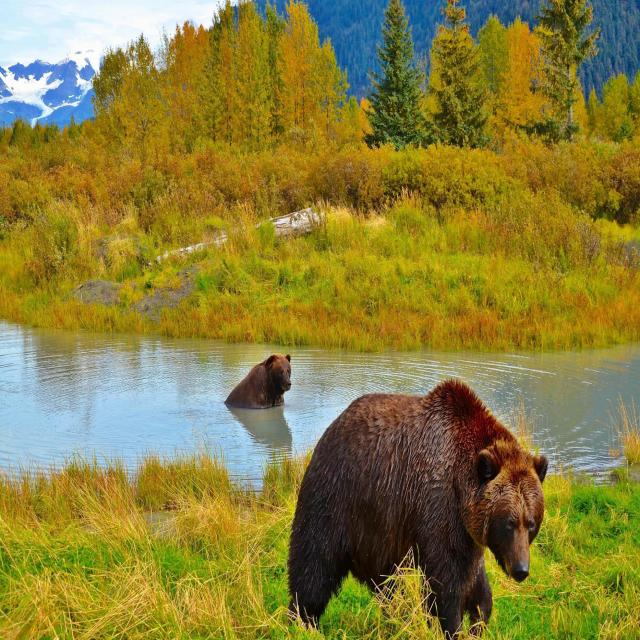Bear: (287, 380, 549, 640), (226, 354, 292, 409)
